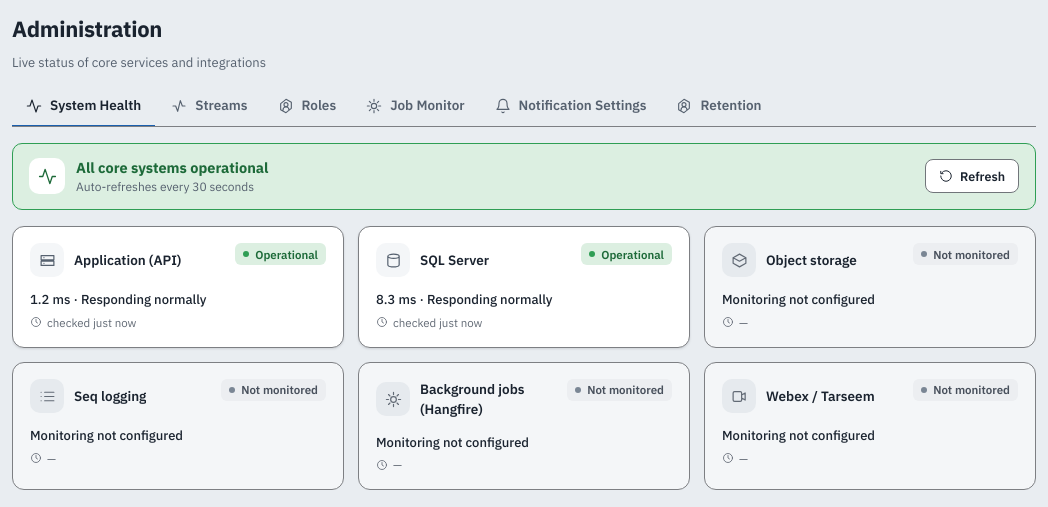
AdministrationPage — sub-tab container › switches to Streams and lists the seeded taxonomy, not an empty state
Click the tab "Streams": (209, 106) x1=157 y1=86 x2=262 y2=126
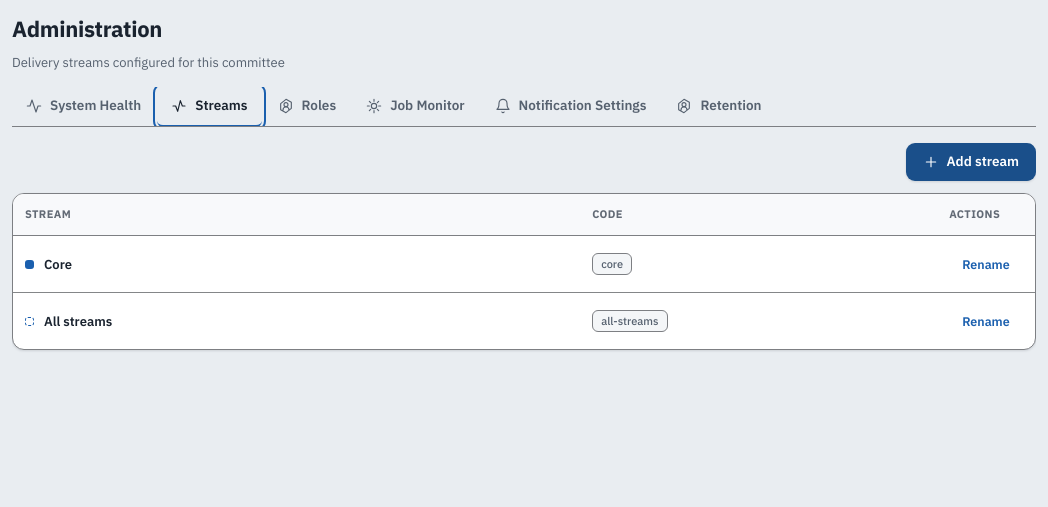
Expected: the text "Core" is shown, x1=44 y1=255 x2=72 y2=274
Result: the text "All streams" is shown at x1=44 y1=312 x2=112 y2=331
